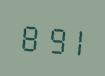eight: (18, 17, 39, 54)
nine: (41, 19, 62, 56)
one: (63, 20, 84, 58)
